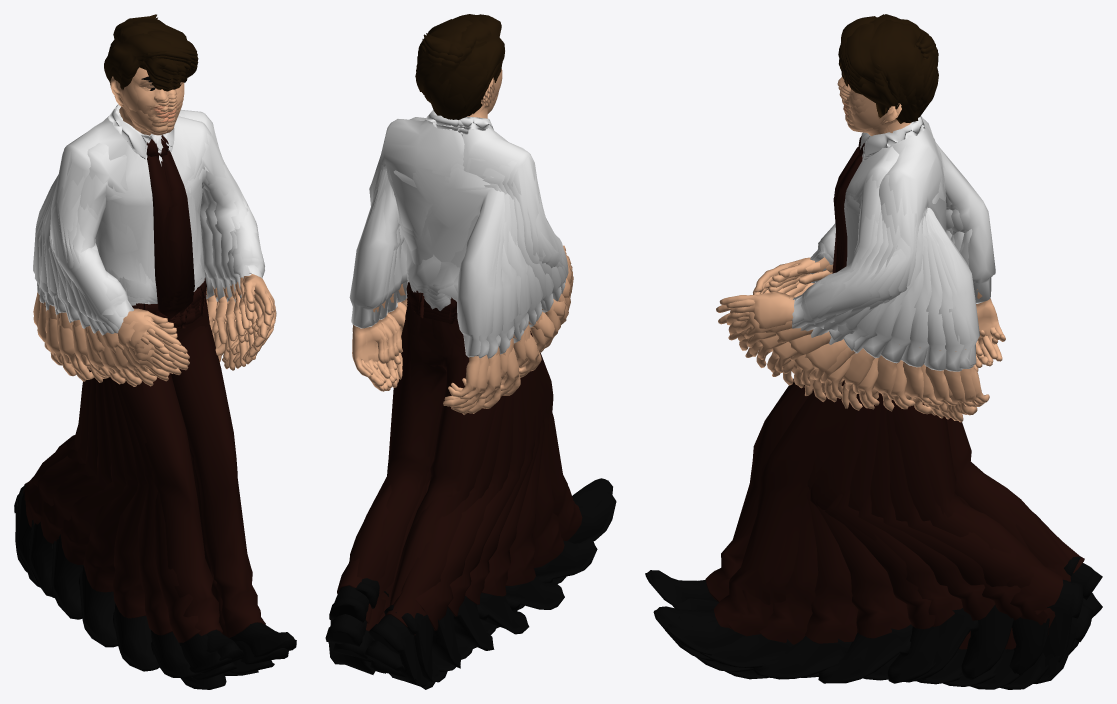
Rendered from caminante_mujer.glb.
3 views of the same model, side by side, from view 1: azimuth 30°, elevation 25°; view 2: azimuth 150°, elevation 25°; view 3: azimuth 270°, elevation 25° (orthographic). The views are drawn at different scales.
Visible parts, largest first — view 1: frame17, frame6, frame14, frame13, frame15, frame11, frame12, frame16, frame10, frame4, frame8, frame3 (+10 smaller); view 2: frame20, frame19, frame8, frame9, frame13, frame10, frame0, frame12, frame11, frame14, frame15, frame7 (+12 smaller); view 3: frame6, frame20, frame0, frame2, frame21, frame3, frame23, frame1, frame4, frame22, frame17, frame19 (+12 smaller).
Boxes of the visible parts, box(x1,y1,x2,y2) form: frame17: box(38, 60, 267, 666); frame6: box(76, 63, 296, 657); frame14: box(49, 22, 237, 671); frame13: box(50, 21, 223, 647); frame15: box(48, 51, 249, 678); frame11: box(29, 29, 209, 597); frame12: box(51, 22, 208, 619); frame16: box(43, 55, 257, 673); frame10: box(16, 37, 209, 577); frame4: box(70, 53, 213, 386); frame8: box(28, 221, 274, 674); frame3: box(65, 17, 207, 386); frame20: box(325, 86, 566, 674); frame19: box(333, 97, 504, 673); frame8: box(350, 90, 573, 689); frame9: box(361, 65, 572, 687); frame13: box(405, 15, 570, 634); frame10: box(373, 57, 572, 682); frame0: box(372, 18, 526, 610); frame12: box(396, 22, 572, 650); frame11: box(387, 40, 572, 668); frame14: box(406, 14, 566, 610); frame15: box(407, 117, 597, 583); frame7: box(349, 182, 572, 682); frame6: box(653, 75, 974, 649); frame20: box(719, 100, 1093, 683); frame0: box(782, 20, 978, 682); frame2: box(807, 19, 934, 683); frame21: box(726, 53, 1083, 662); frame3: box(753, 42, 928, 679); frame23: box(787, 42, 1013, 679); frame1: box(782, 20, 970, 683); frame4: box(700, 54, 933, 668); frame22: box(736, 47, 1049, 675); frame17: box(645, 67, 1007, 686); frame19: box(716, 206, 1079, 689).
Size of the model in its own units: 1.38 by 4.47 by 2.87.
